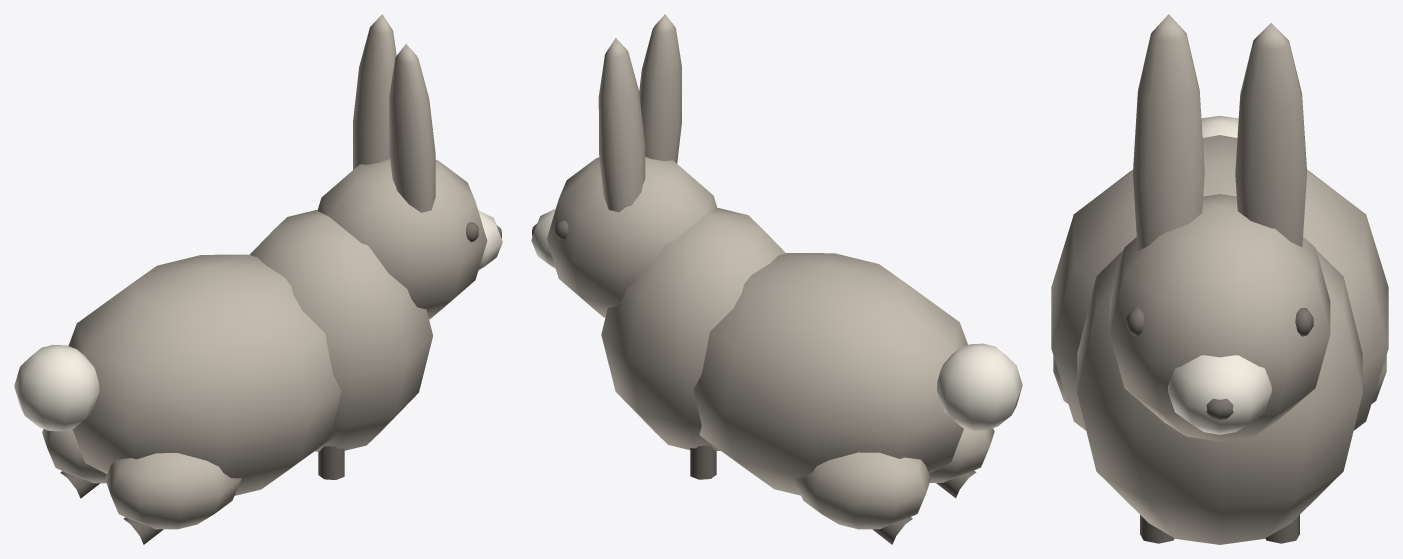
File: rabbit_01.gltf
The picture shows the model from 3 angles, left to right: view 1: azimuth 30°, elevation 25°; view 2: azimuth 150°, elevation 25°; view 3: azimuth 270°, elevation 25°; orthographic projection. The views are drawn at different scales.
Visible parts, largest first — view 1: BodyRoot, Chest, HeadPivot, Hind_R, Ear_R, Tail, Ear_L, Hind_L, Fore_R, Muzzle; view 2: BodyRoot, Chest, HeadPivot, Hind_L, Ear_L, Tail, Ear_R, Hind_R, Fore_L, Muzzle; view 3: Chest, HeadPivot, BodyRoot, Ear_R, Ear_L, Muzzle, Tail, Fore_L, Fore_R, Nose, Eye_L, Eye_R.
Part boxes in pixels (box(x1,y1,x2,y2)): BodyRoot: box(68, 254, 341, 495); Chest: box(250, 210, 432, 451); HeadPivot: box(317, 159, 487, 319); Hind_R: box(105, 453, 241, 529); Ear_R: box(389, 44, 435, 212); Tail: box(14, 344, 99, 431); Ear_L: box(353, 14, 396, 169); Hind_L: box(42, 429, 106, 483); Fore_R: box(318, 446, 344, 479); Muzzle: box(478, 210, 502, 270); BodyRoot: box(693, 253, 967, 495); Chest: box(601, 208, 785, 450); HeadPivot: box(547, 157, 717, 317); Hind_L: box(794, 452, 930, 529); Ear_L: box(598, 38, 645, 212); Tail: box(937, 343, 1022, 430); Ear_R: box(639, 14, 681, 163); Hind_R: box(929, 428, 994, 482); Fore_L: box(690, 445, 716, 479); Muzzle: box(531, 208, 555, 268); Chest: box(1077, 238, 1362, 544); HeadPivot: box(1109, 194, 1330, 441); BodyRoot: box(1051, 135, 1388, 430); Ear_R: box(1133, 14, 1204, 250); Ear_L: box(1235, 23, 1306, 246); Muzzle: box(1168, 355, 1271, 434); Tail: box(1201, 116, 1238, 137); Fore_L: box(1265, 515, 1299, 543); Fore_R: box(1140, 515, 1174, 543); Nose: box(1206, 398, 1233, 420); Eye_L: box(1295, 308, 1313, 336); Eye_R: box(1126, 308, 1144, 336).
Bounding box in the file's own units: 1.14 × 0.9605 × 0.4945.
